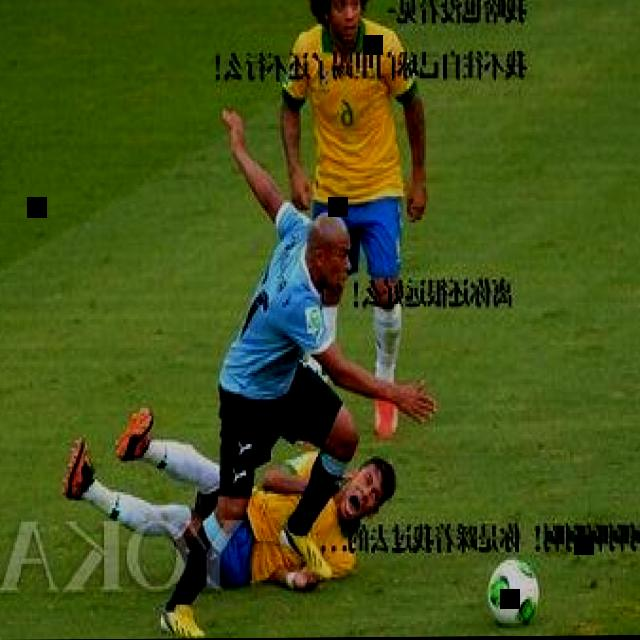Fall-Detected: (49, 394, 409, 622)
